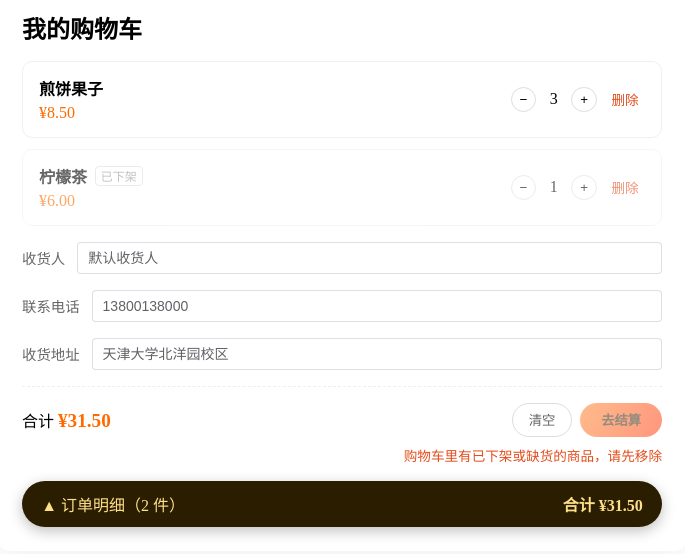
购物车页 › 清空购物车后展示空状态
Click the button with test id "cart-clear".
click(542, 420)  # box [512,403,572,437]
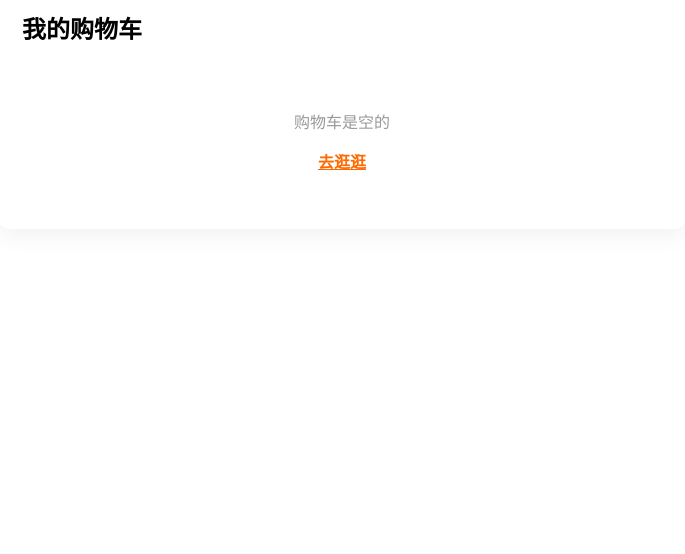
Check: the element with test id "cart-empty" shows "购物车是空的", box [294,114,390,131]
